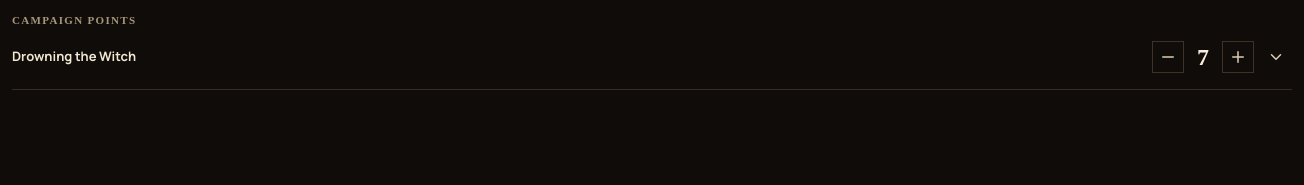
it: the warband's campaign points › offers no plot to pick, nor who may follow it, once opened
Click the button named "Show the plot".
click(1276, 56)  # box x1=1260 y1=40 x2=1292 y2=72
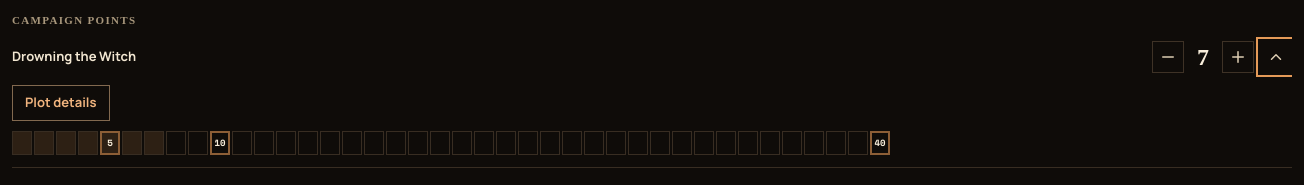
Expected: the button "Plot details" is shown, x1=12 y1=84 x2=110 y2=120
